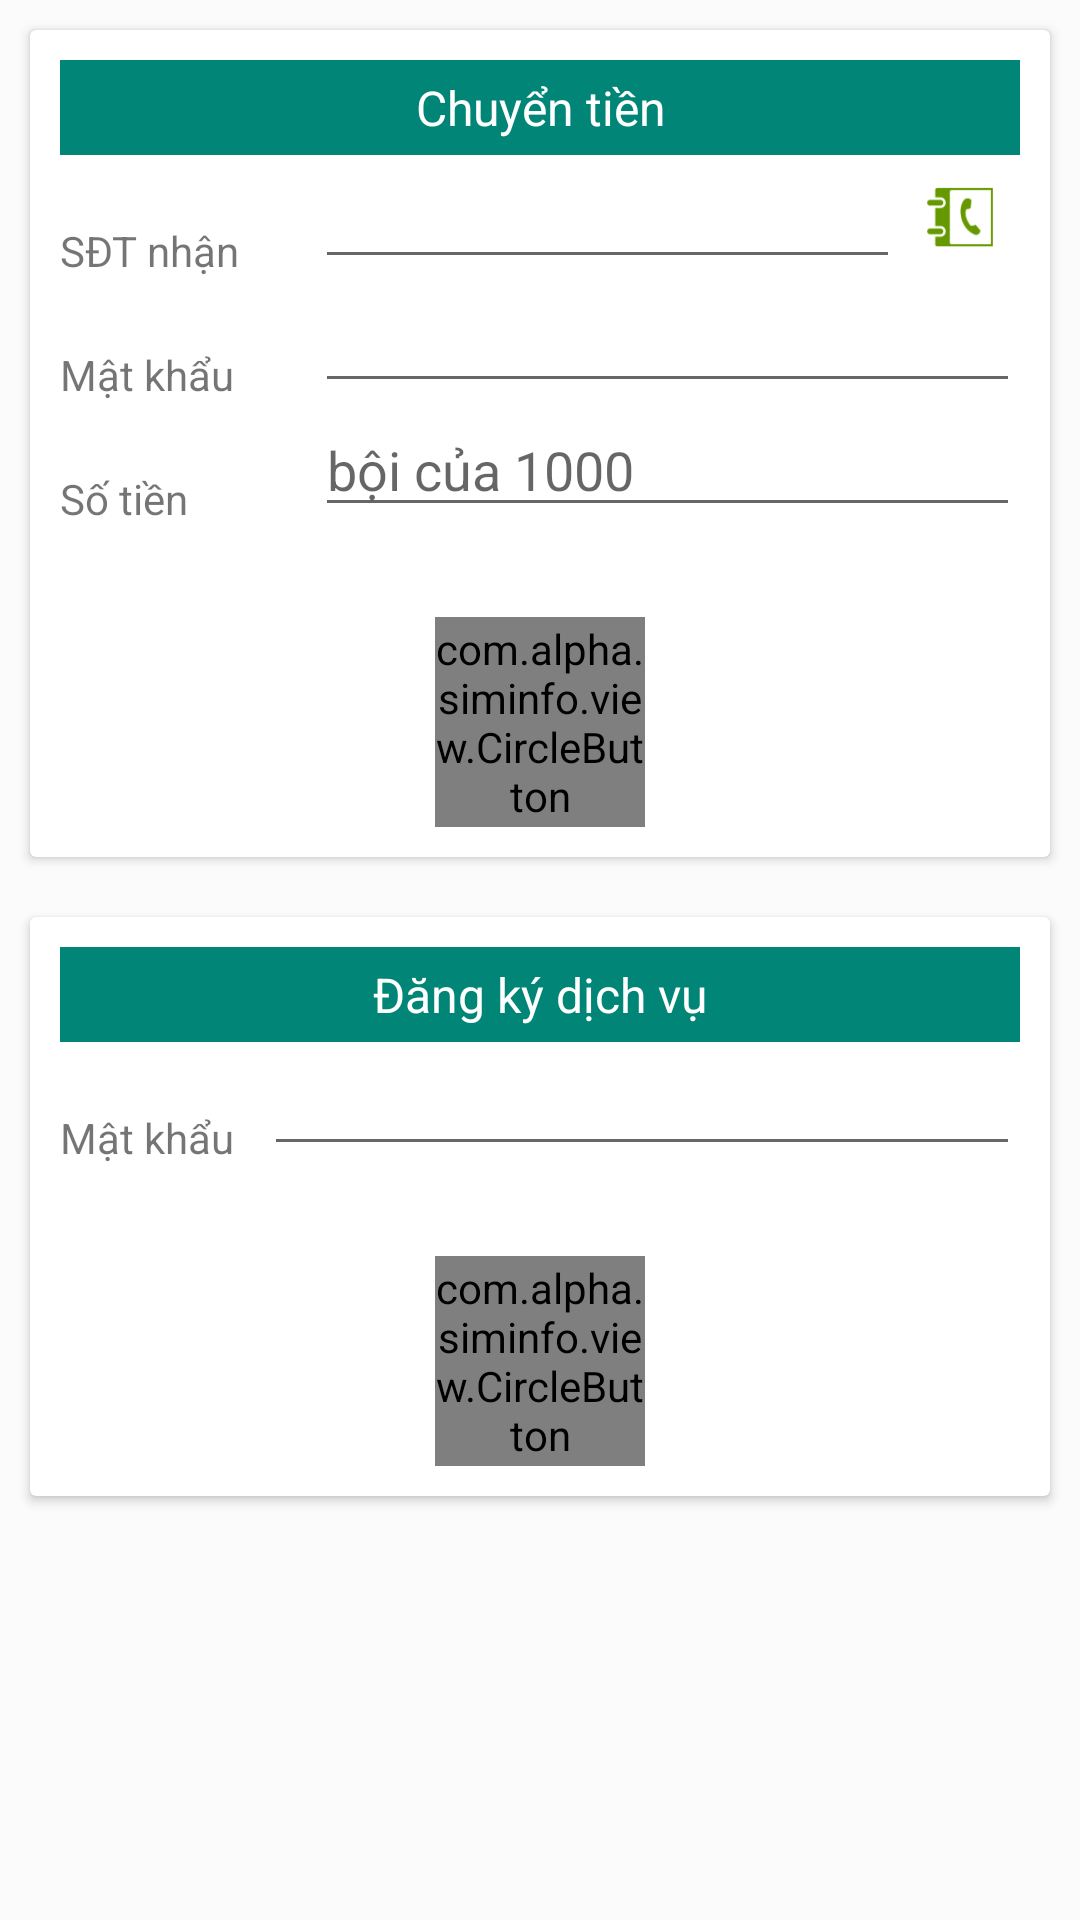

Point at icon controls on the screen. Image size 1080 x 1920, points as [x,y].
contact: [960,217]
